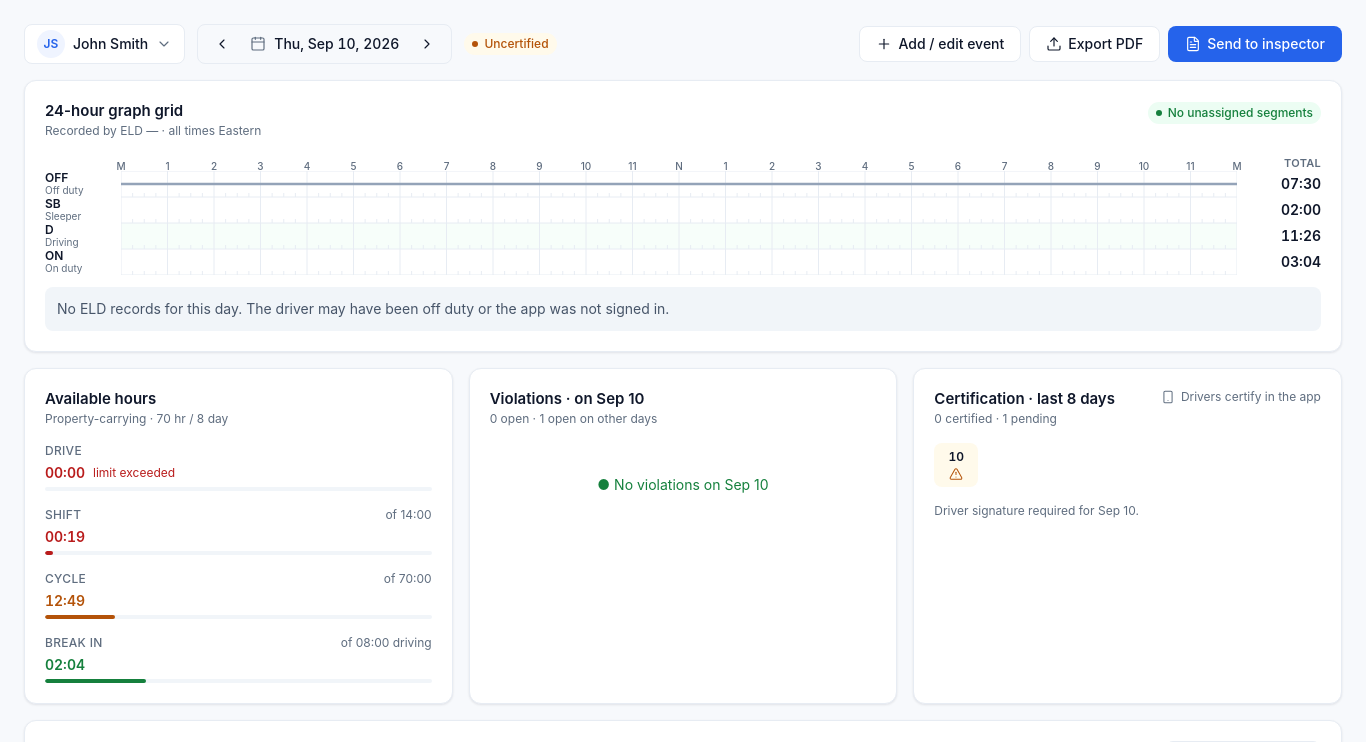
Test: 11.11 · Add / edit event, end to end › opens a filled form from the toolbar, posts the proposal, toasts §13.3 and closes
The image size is (1366, 742).
Click the button "Add / edit event": (940, 44) [860,26,1021,62]
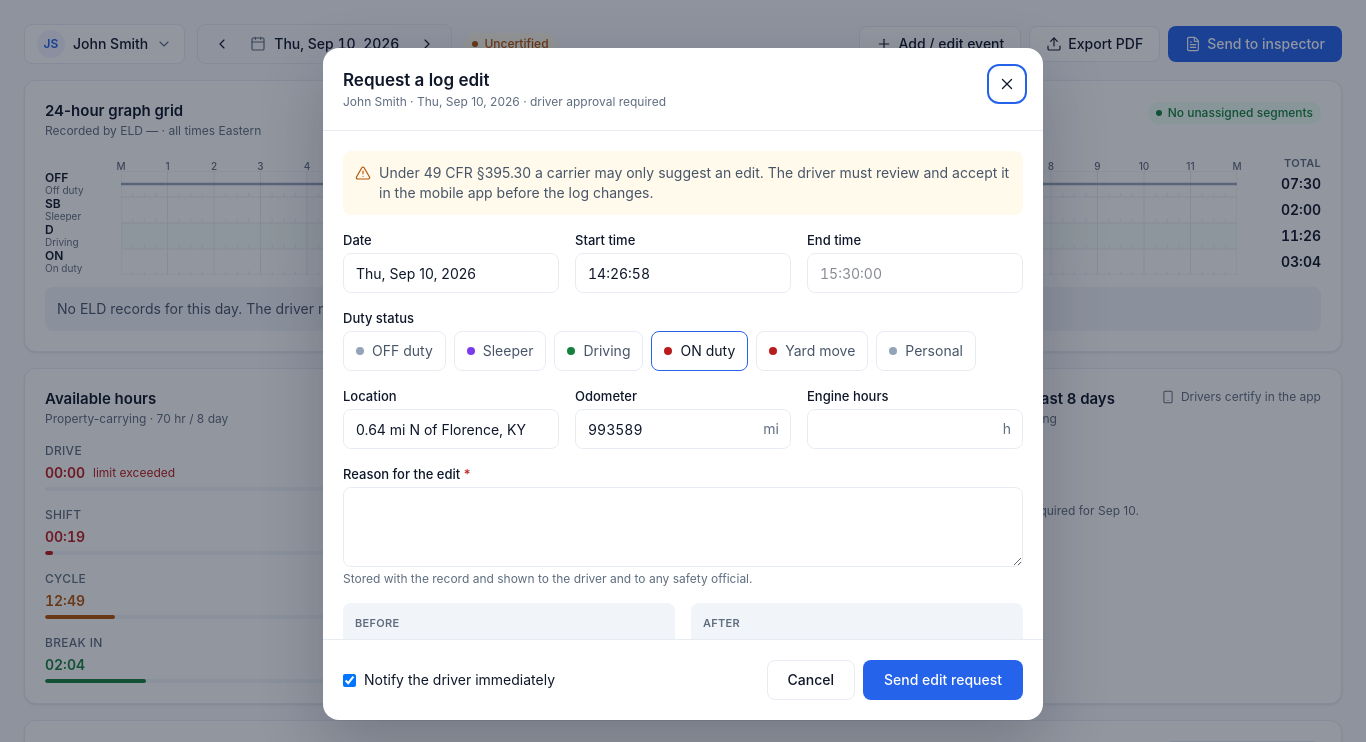
Expected: the field labelled "Start time" holds "14:26:58", [575,253,791,293]
In the text box labelled "Reason for the edit *": (683, 527) [343,487,1023,567], type "Driver forgot to switch to On duty."
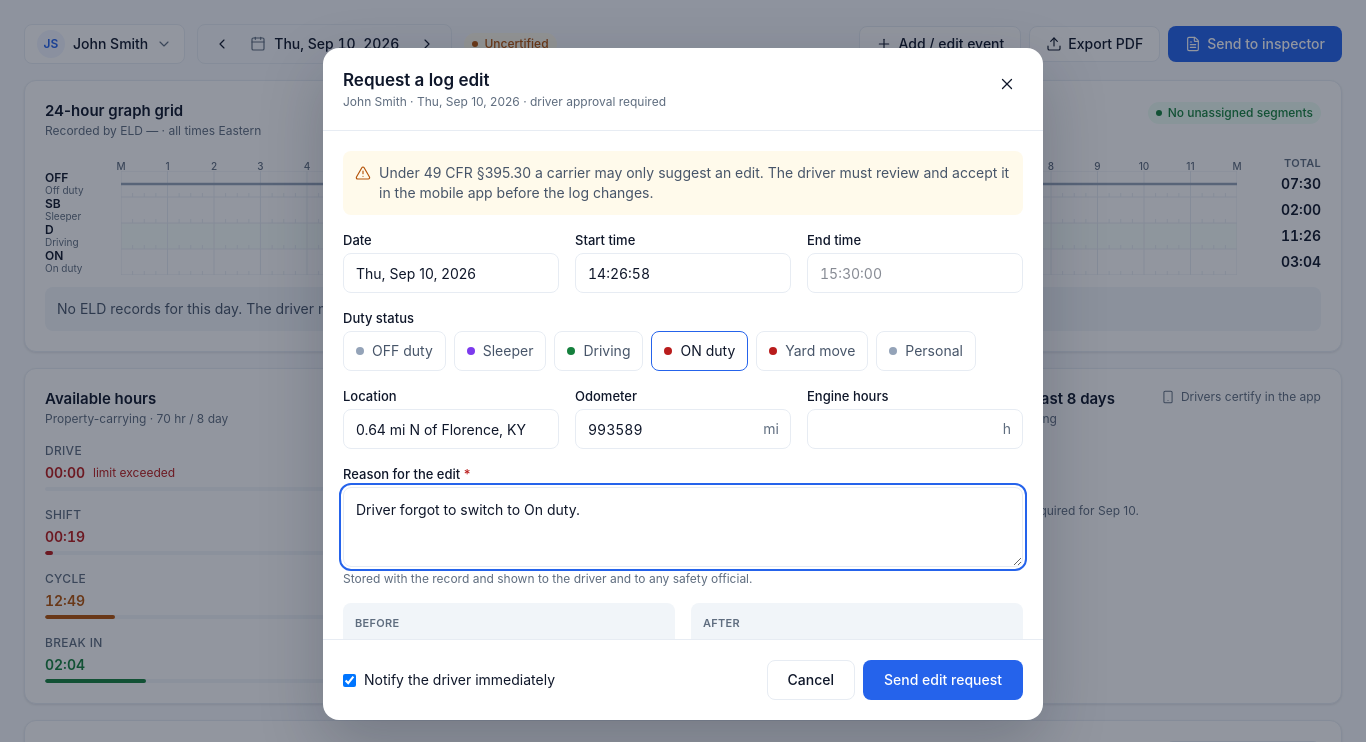
Click the button "Send edit request": (943, 680) [863,660,1023,700]
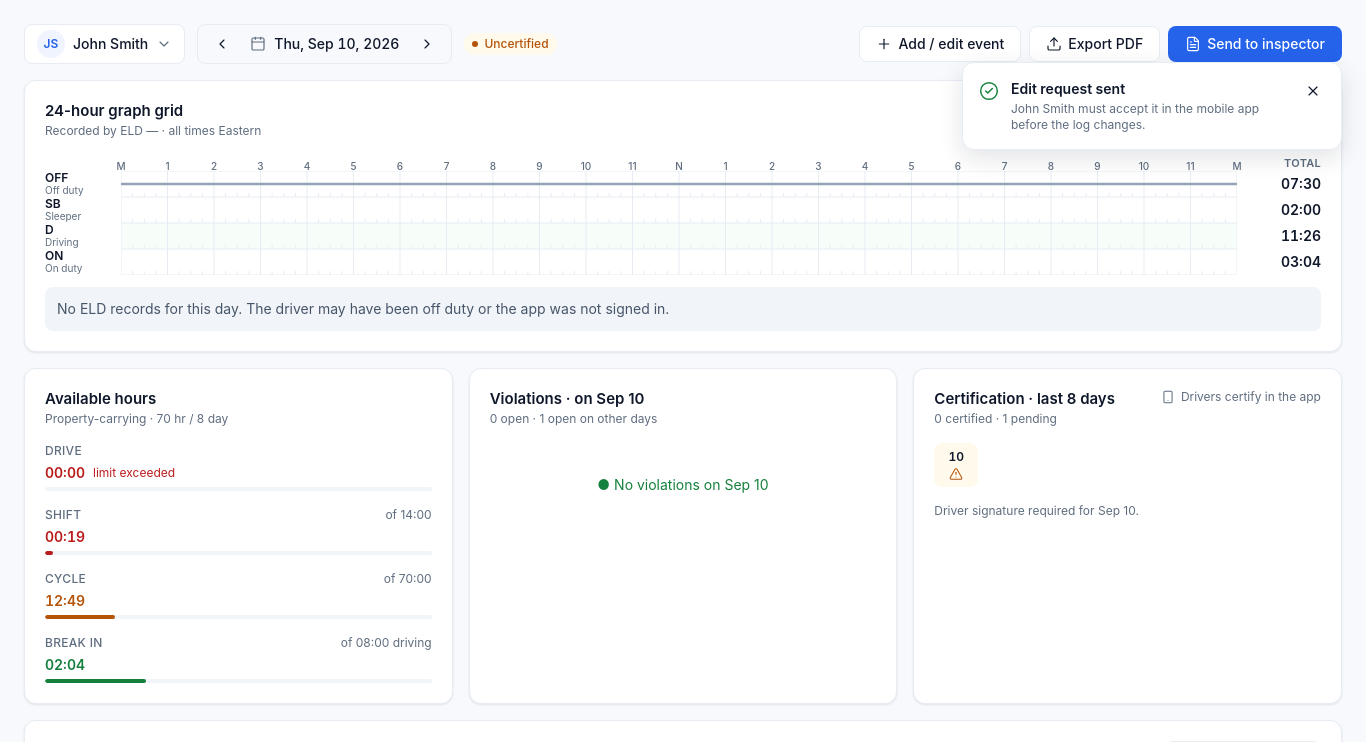
Expected: the text "Edit request sent" is shown, [1011,80,1125,97]
Expected: the dialog is gone
